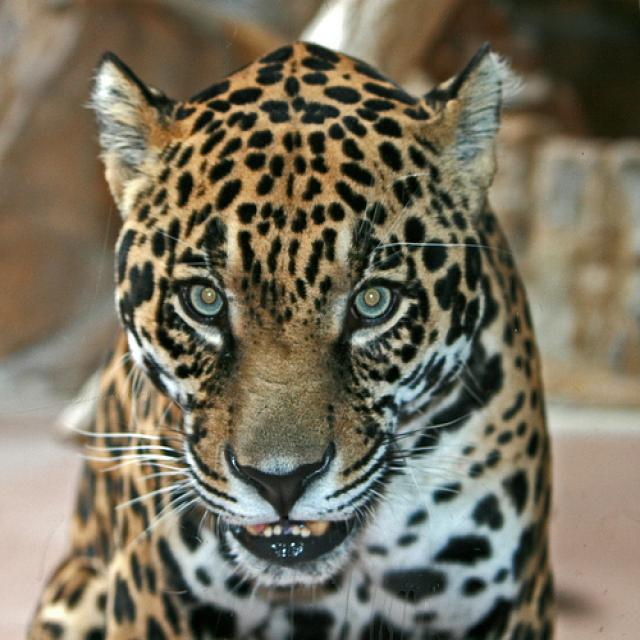Leopard: (23, 31, 558, 636)
